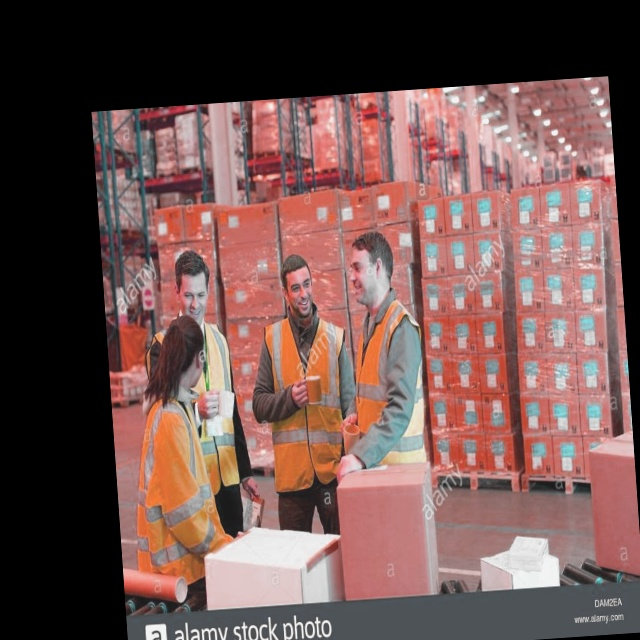Con_Chaleco: (132, 404, 220, 572), (261, 317, 354, 471), (350, 299, 429, 466)
Sin_Casco_Mascarrilla: (347, 230, 396, 303), (161, 313, 206, 382), (175, 248, 212, 316), (278, 251, 314, 316)
